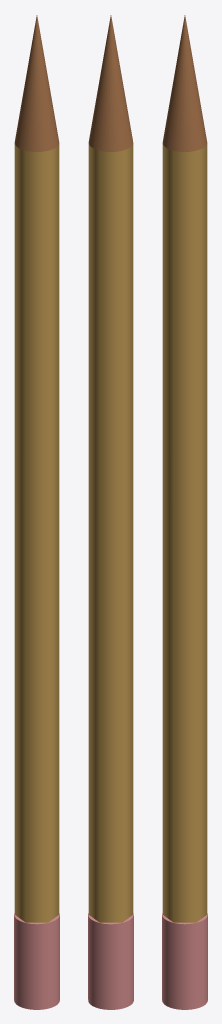
The model's file is wp-crayon-de-papier.glb.
3 views of the same model, side by side, from view 1: azimuth 90°, elevation 25°; view 2: azimuth 150°, elevation 25°; view 3: azimuth 270°, elevation 25° (orthographic).
Parts seen in each view (by area): view 1: wp-crayon-de-papier; view 2: wp-crayon-de-papier; view 3: wp-crayon-de-papier.
Boxes of the visible parts, box(x1,y1,x2,y2) form: wp-crayon-de-papier: box(14, 15, 59, 1009); wp-crayon-de-papier: box(88, 15, 133, 1009); wp-crayon-de-papier: box(162, 15, 207, 1009).
Size of the model in its own units: 0.008 by 0.19 by 0.008.
